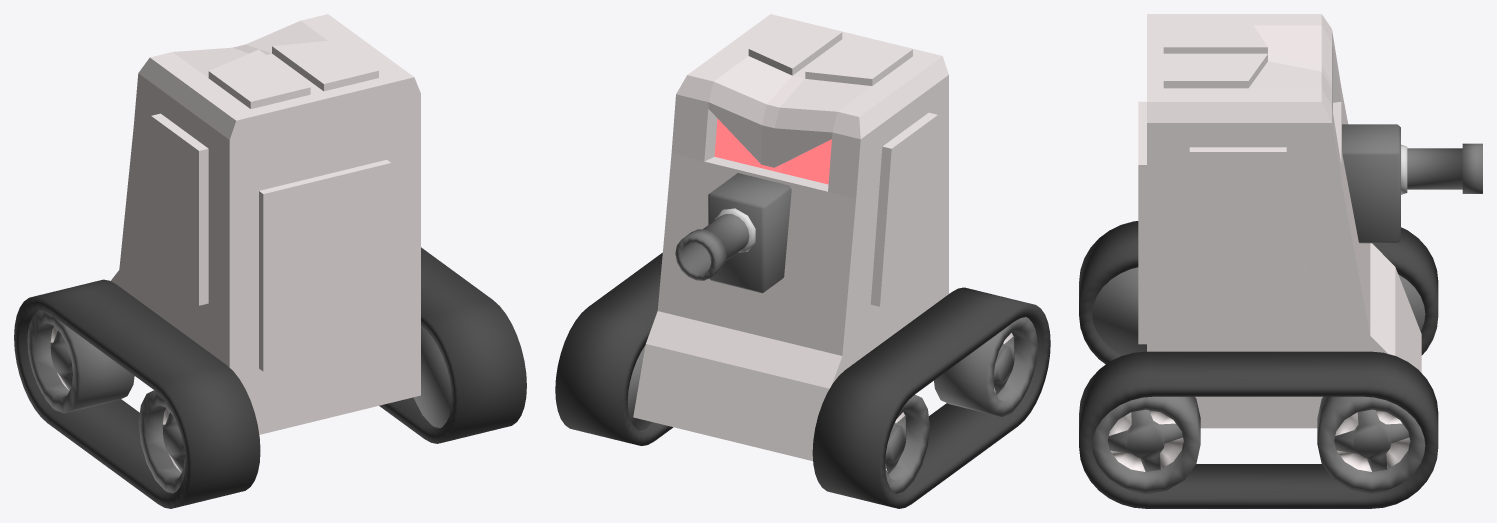
Rendered from tank-badguy.glb.
The picture shows the model from 3 angles, left to right: view 1: azimuth 30°, elevation 25°; view 2: azimuth 150°, elevation 25°; view 3: azimuth 270°, elevation 25°; orthographic projection. The views are drawn at different scales.
Visible parts, largest first — view 1: Body, Tracks-R, Tracks-L, Wheel-FL, Wheel-BL, Wheel-FR; view 2: Body, Tracks-R, Tracks-L, Weapon-Laser, Wheel-BL, Weapon-Cannon, Wheel-FL, Wheel-BR; view 3: Body, Tracks-L, Wheel-FR, Wheel-BR, Tracks-R, Weapon-Laser, Weapon-Cannon, Wheel-BL, Wheel-FL.
Part boxes in pixels (x1,y1,x2,y2): Body: (111,14,420,434); Tracks-R: (14,279,260,508); Tracks-L: (379,247,526,443); Wheel-FL: (27,310,134,413); Wheel-BL: (138,390,185,493); Wheel-FR: (413,326,451,427); Body: (633,14,948,460); Tracks-R: (812,287,1050,508); Tracks-L: (555,252,673,445); Weapon-Laser: (708,173,791,293); Wheel-BL: (934,317,1037,416); Weapon-Cannon: (675,214,749,280); Wheel-FL: (885,394,929,493); Wheel-BR: (627,345,652,430); Body: (1138,14,1421,428); Tracks-L: (1079,351,1438,508); Wheel-FR: (1092,396,1200,493); Wheel-BR: (1317,396,1425,493); Tracks-R: (1079,221,1438,364); Weapon-Laser: (1342,124,1407,243); Weapon-Cannon: (1407,143,1482,193); Wheel-BL: (1092,267,1146,355); Wheel-FL: (1398,274,1425,331).
Size of the model in its own units: 3.51 by 3.72 by 3.62.
